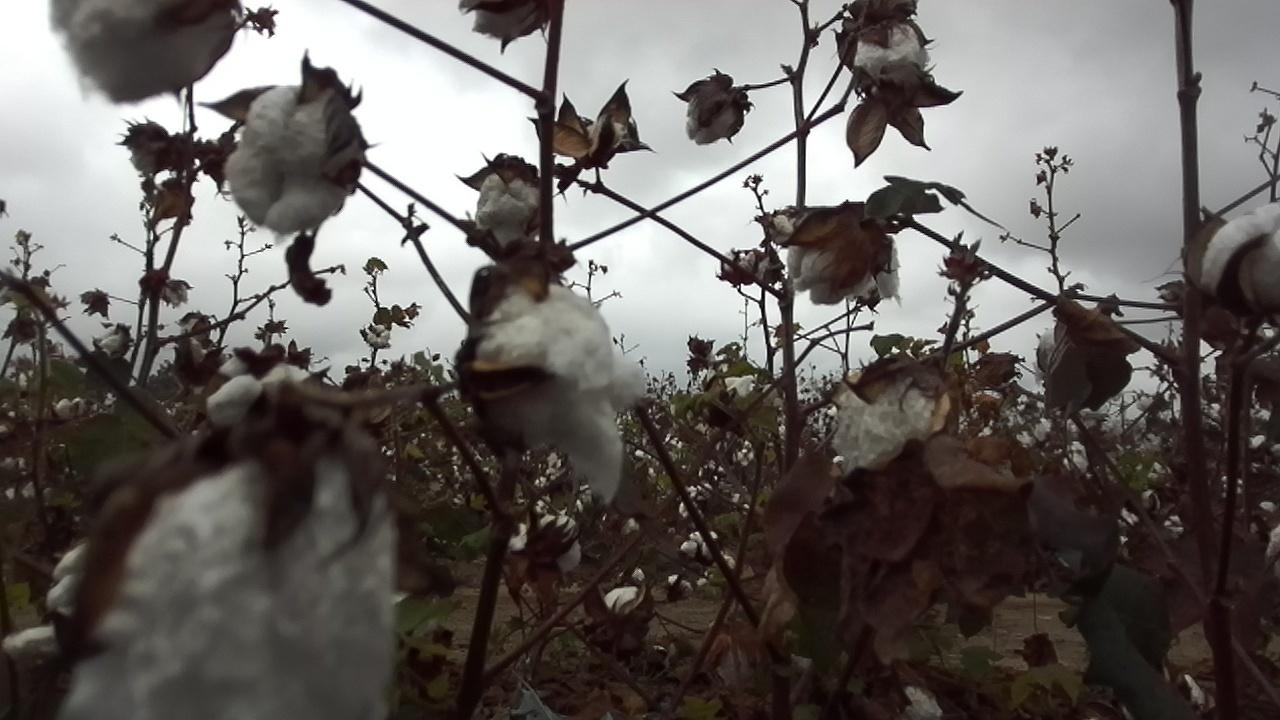cotton_ready: (61, 454, 404, 720), (475, 287, 644, 505), (51, 0, 239, 104), (225, 92, 357, 237), (205, 350, 319, 445), (833, 380, 952, 471), (0, 549, 83, 660), (1205, 202, 1280, 320), (790, 244, 899, 309), (476, 172, 544, 250), (507, 514, 582, 575), (858, 15, 927, 81), (1034, 320, 1083, 403), (840, 683, 943, 720), (463, 0, 545, 44), (685, 97, 739, 149), (474, 685, 553, 720), (601, 586, 655, 626), (585, 120, 627, 158)
